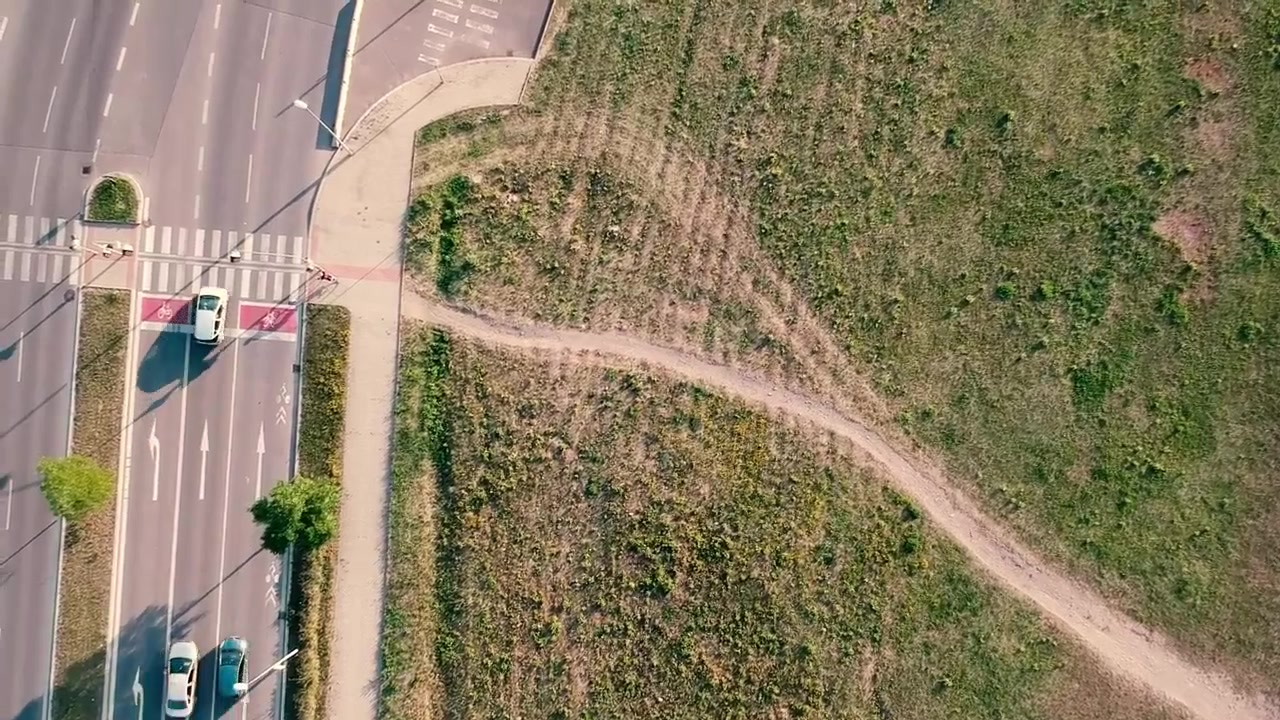car: (161, 639, 199, 719), (189, 286, 229, 348), (215, 634, 248, 700)
